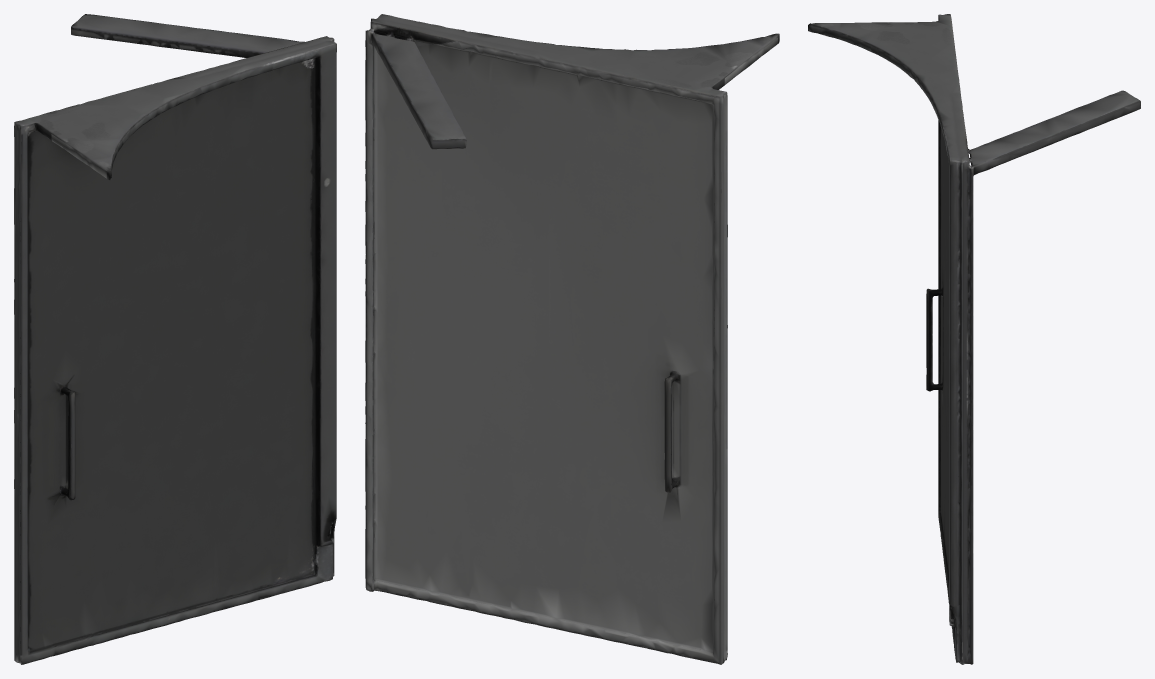
File: kapi.fbx
3 renders of one model, left to right at view 1: azimuth 30°, elevation 25°; view 2: azimuth 150°, elevation 25°; view 3: azimuth 270°, elevation 25°, orthographic. The views are drawn at different scales.
Visible parts, largest first — view 1: Mesh_0; view 2: Mesh_0; view 3: Mesh_0.
Part boxes in pixels (x1=…): Mesh_0: x1=14, y1=14, x2=336, y2=664; Mesh_0: x1=365, y1=14, x2=779, y2=664; Mesh_0: x1=808, y1=14, x2=1140, y2=664.
Size of the model in its own units: 121 by 191 by 115.
1 material, 1 textured.
